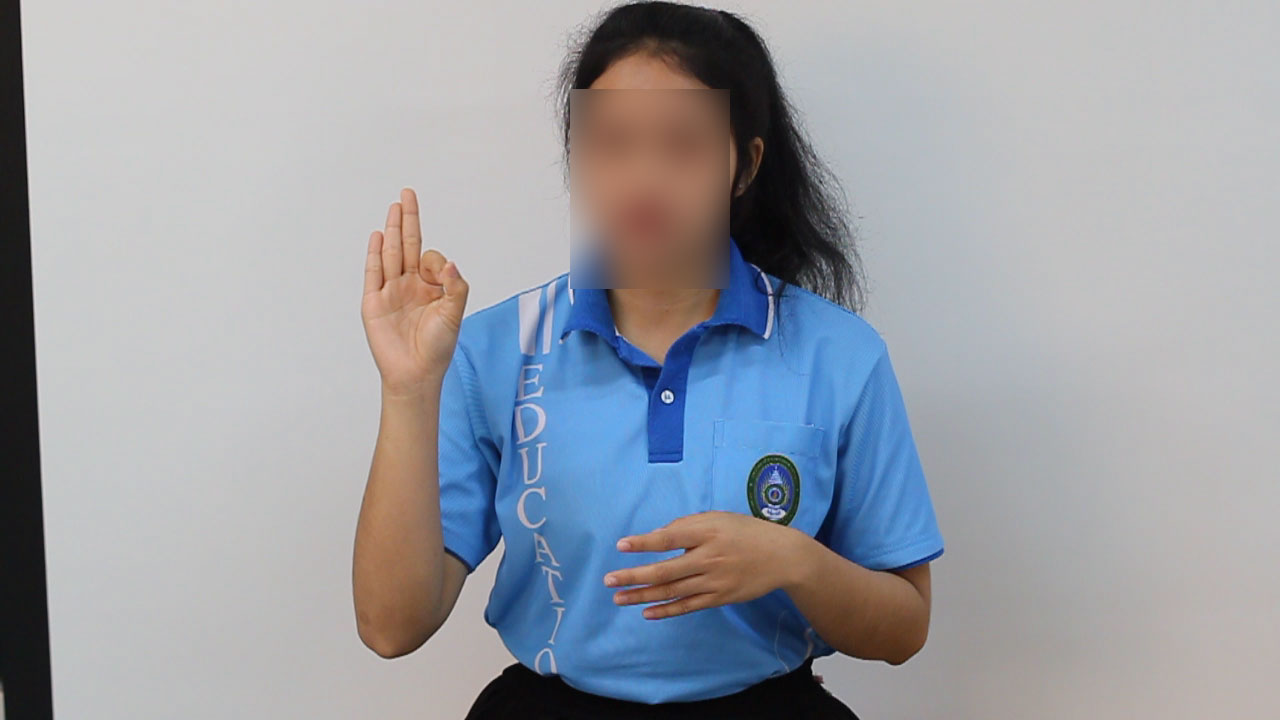for: (352, 181, 476, 403)
